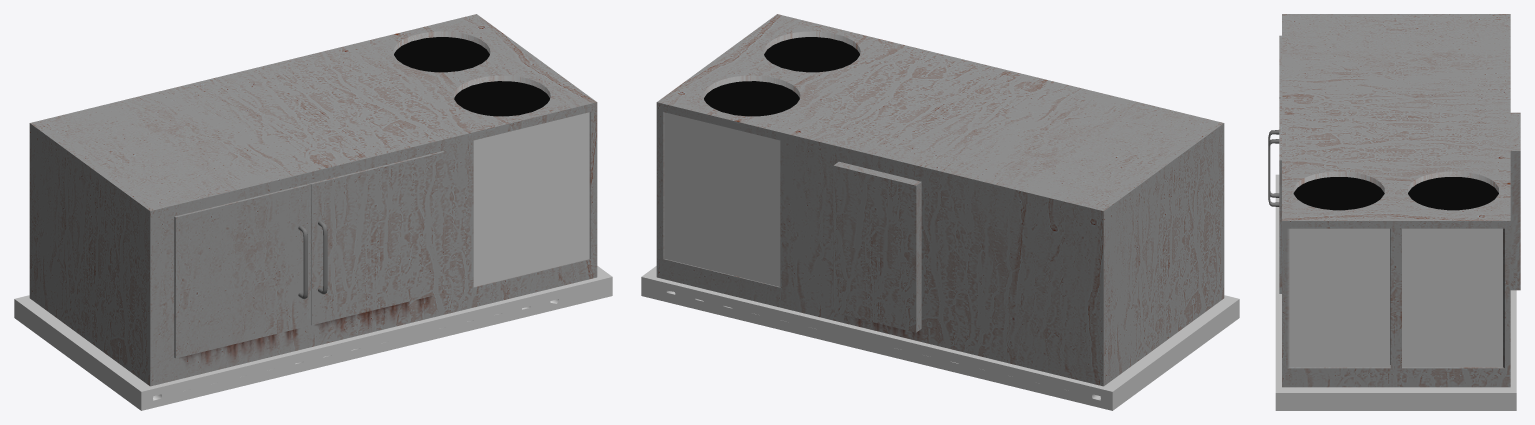
The model's file is AirConditioner2.fbx.
3 renders of one model, left to right at view 1: azimuth 30°, elevation 25°; view 2: azimuth 150°, elevation 25°; view 3: azimuth 270°, elevation 25°, orthographic. The views are drawn at different scales.
Visible parts, largest first — view 1: Cube, Cube.001, Cube.002; view 2: Cube, Cube.001, Cube.002; view 3: Cube, Cube.001, Cube.002.
Part boxes in pixels (x1,y1,x2,y2): Cube: (29,14,597,386); Cube.001: (14,266,612,410); Cube.002: (394,37,549,116); Cube: (656,14,1224,386); Cube.001: (641,266,1239,410); Cube.002: (704,37,859,116); Cube: (1268,14,1520,387); Cube.001: (1275,174,1516,410); Cube.002: (1293,177,1498,364).
Size of the model in its own units: 724 by 285 by 354.
